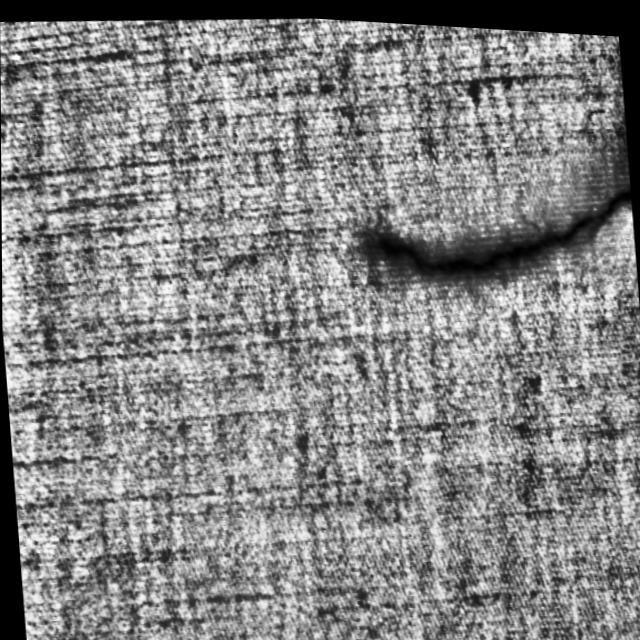Stitch: (365, 155, 638, 299)
